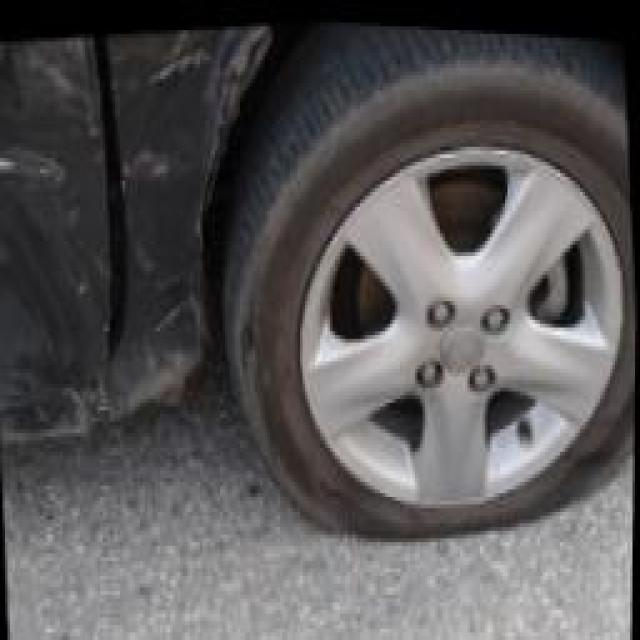Door: (0, 30, 117, 454)
Fender: (95, 23, 220, 435)
